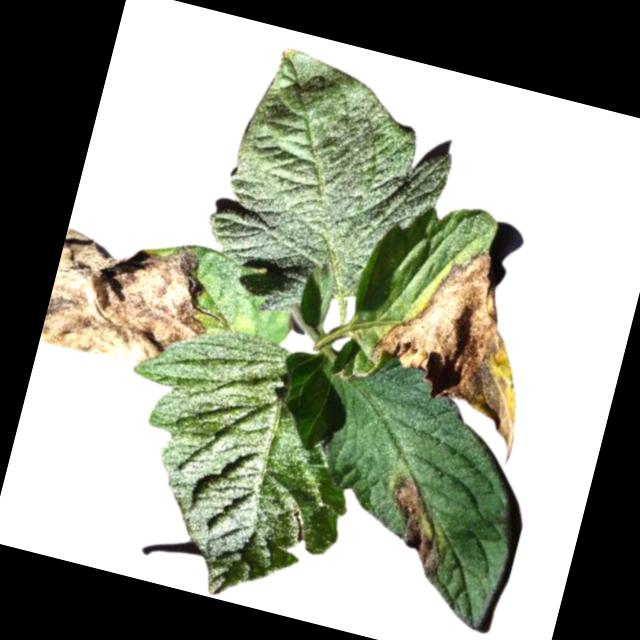Late_blight: (351, 228, 556, 463), (38, 214, 224, 384), (375, 476, 456, 578)
